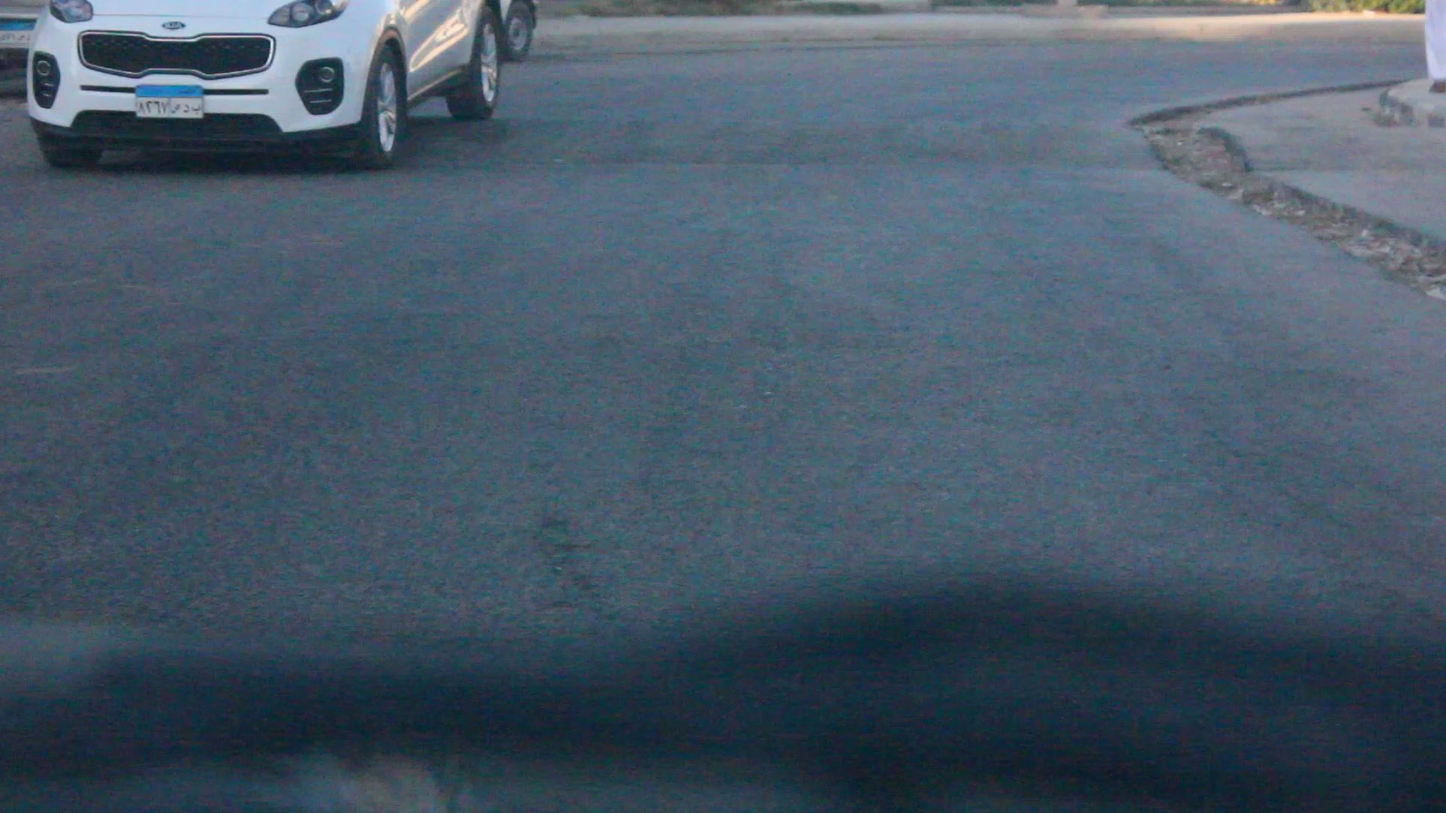Bump: (433, 113, 1165, 177)
